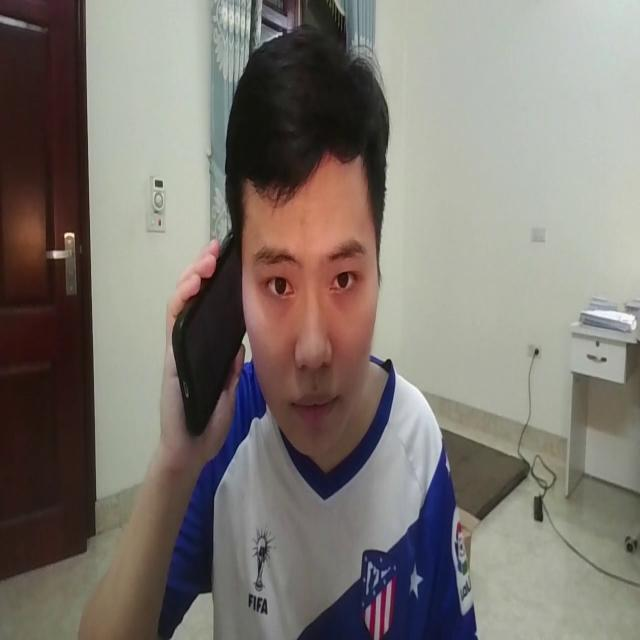phone: (163, 205, 259, 464)
student: (89, 18, 481, 640)
